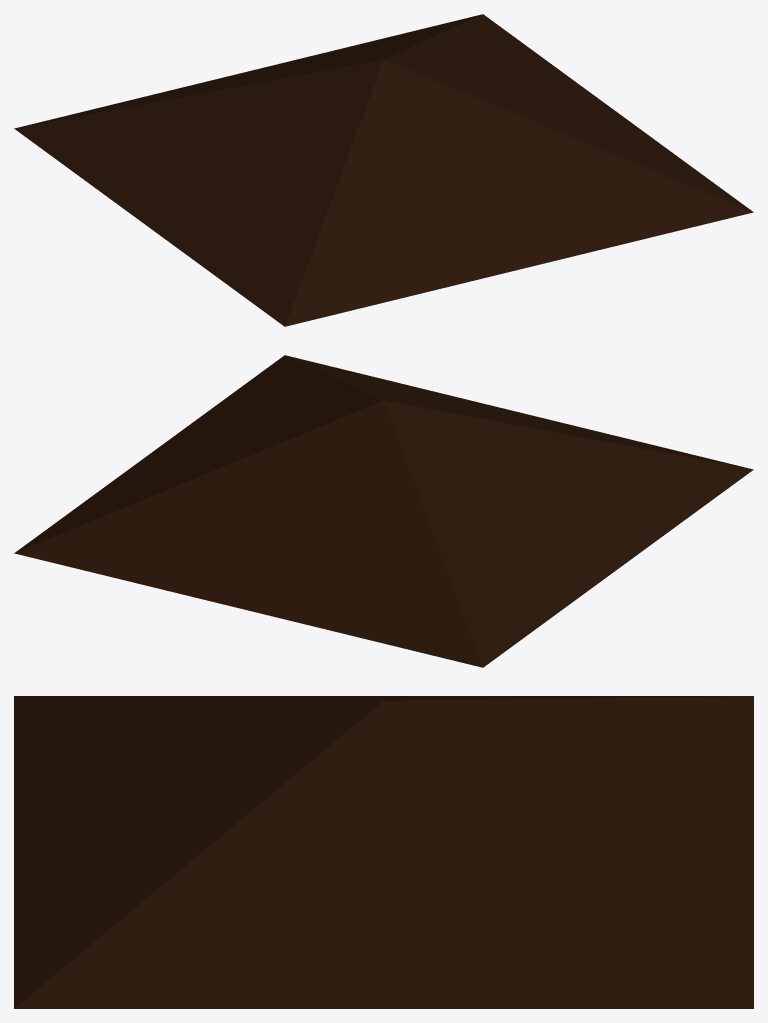
File: Roof_01F.fbx
3 renders of one model, top to bottom at view 1: azimuth 30°, elevation 25°; view 2: azimuth 150°, elevation 25°; view 3: azimuth 270°, elevation 25°, orthographic. The views are drawn at different scales.
Parts seen in each view (by area): view 1: Roof_01F; view 2: Roof_01F; view 3: Roof_01F.
Boxes of the visible parts, x1,y1,x2,y2 form: Roof_01F: (14,14,753,326); Roof_01F: (14,355,753,667); Roof_01F: (14,696,753,1008).
Size of the model in its own units: 300 by 67.87 by 300.
